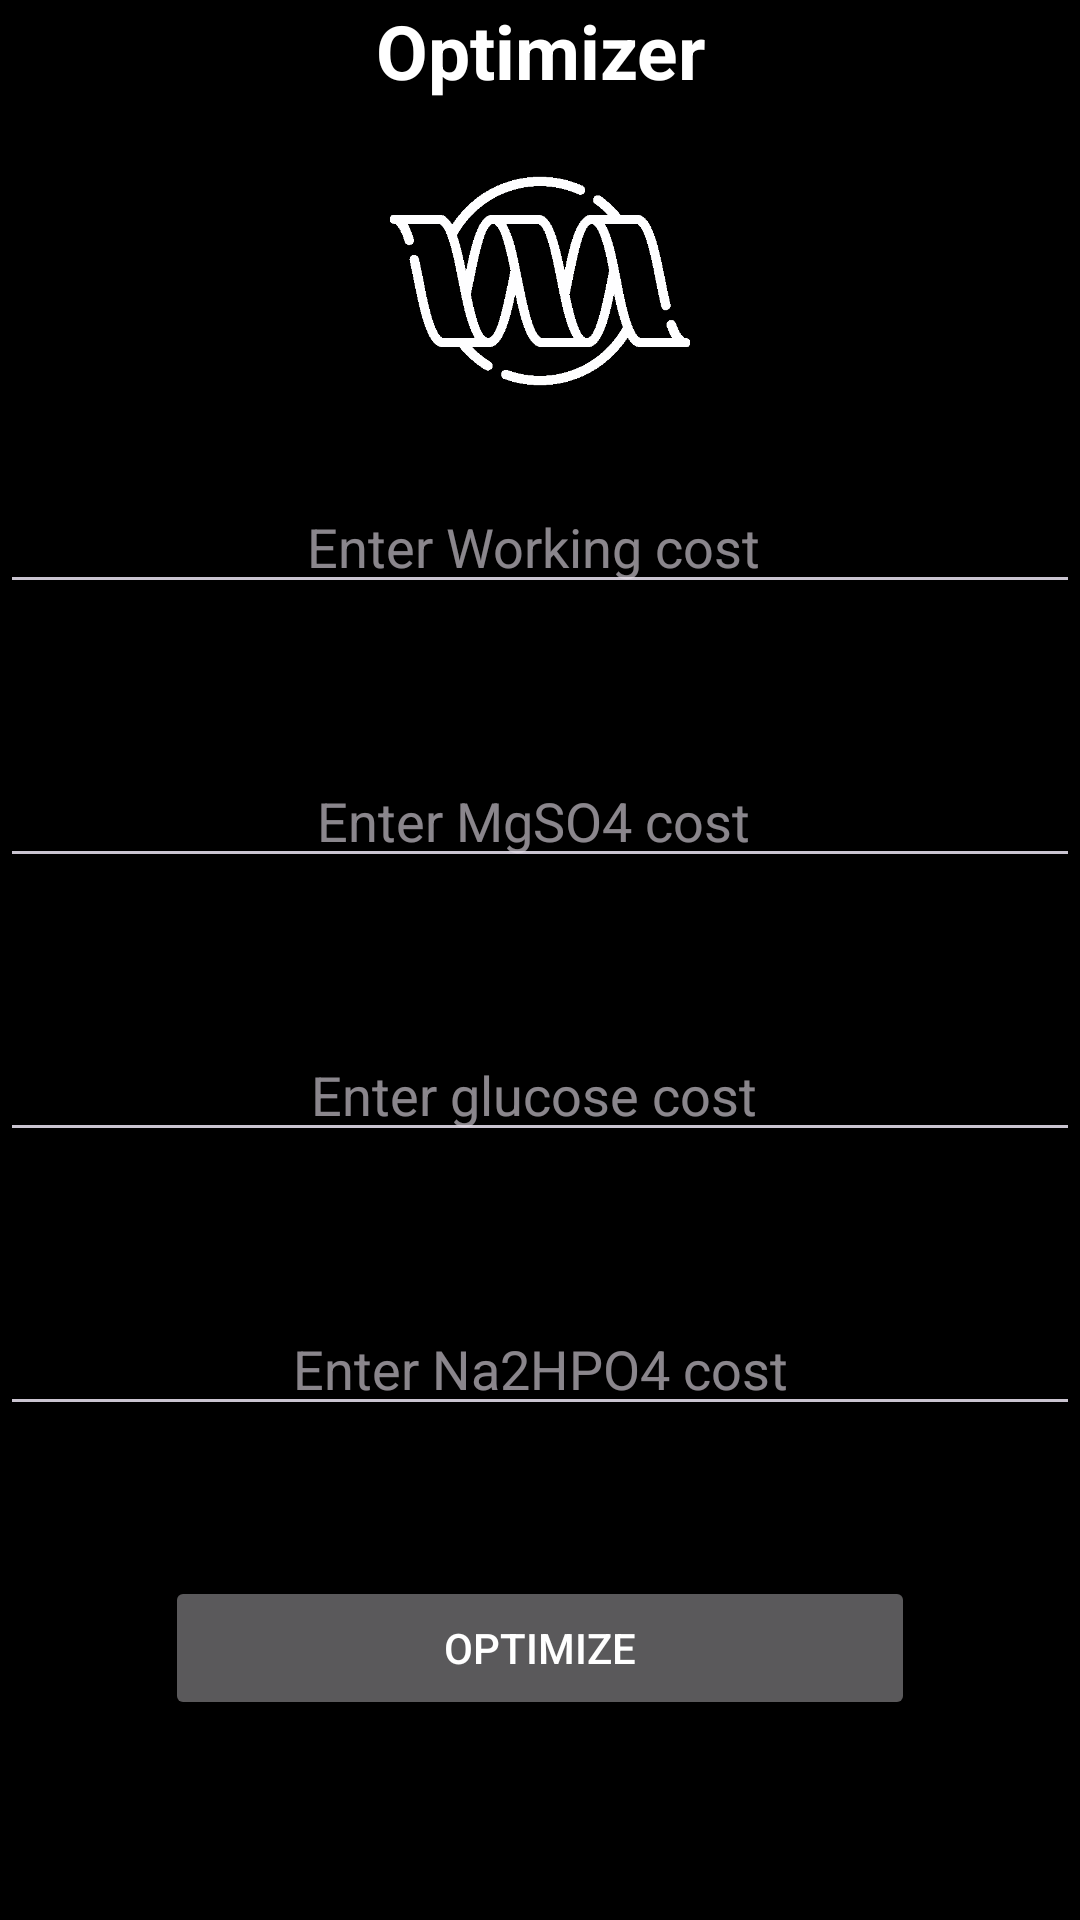

Icon click points for this 1080×1920 phone screenshot, format point (x, y):
horizontalprotein: point (540, 281)
